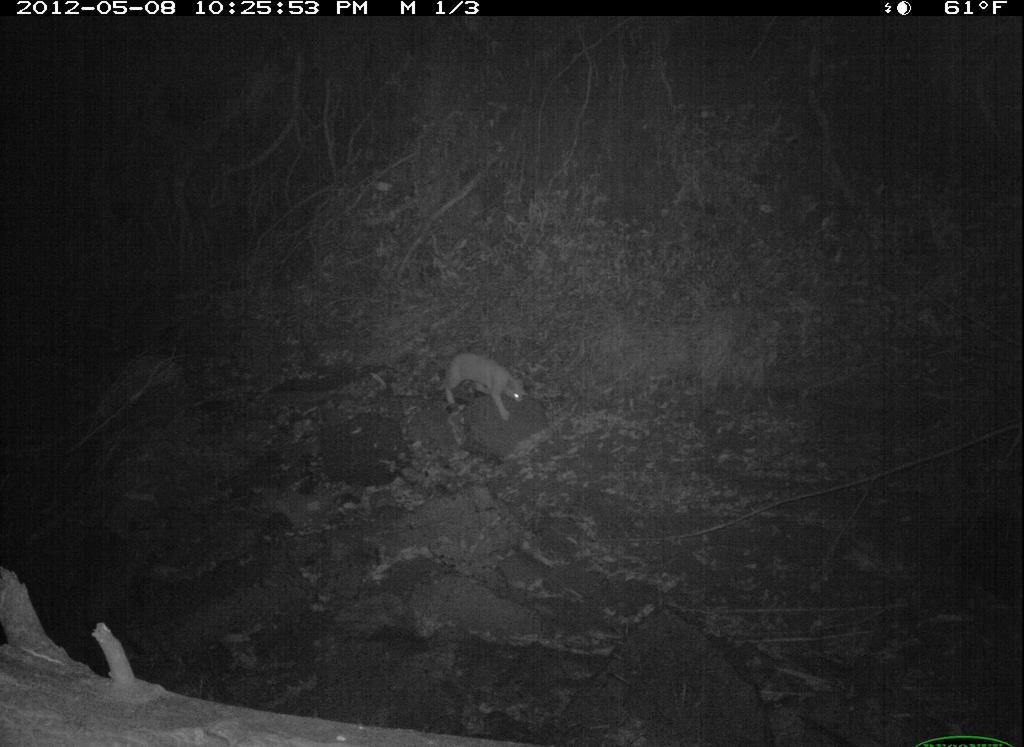cat: (411, 329, 536, 422)
